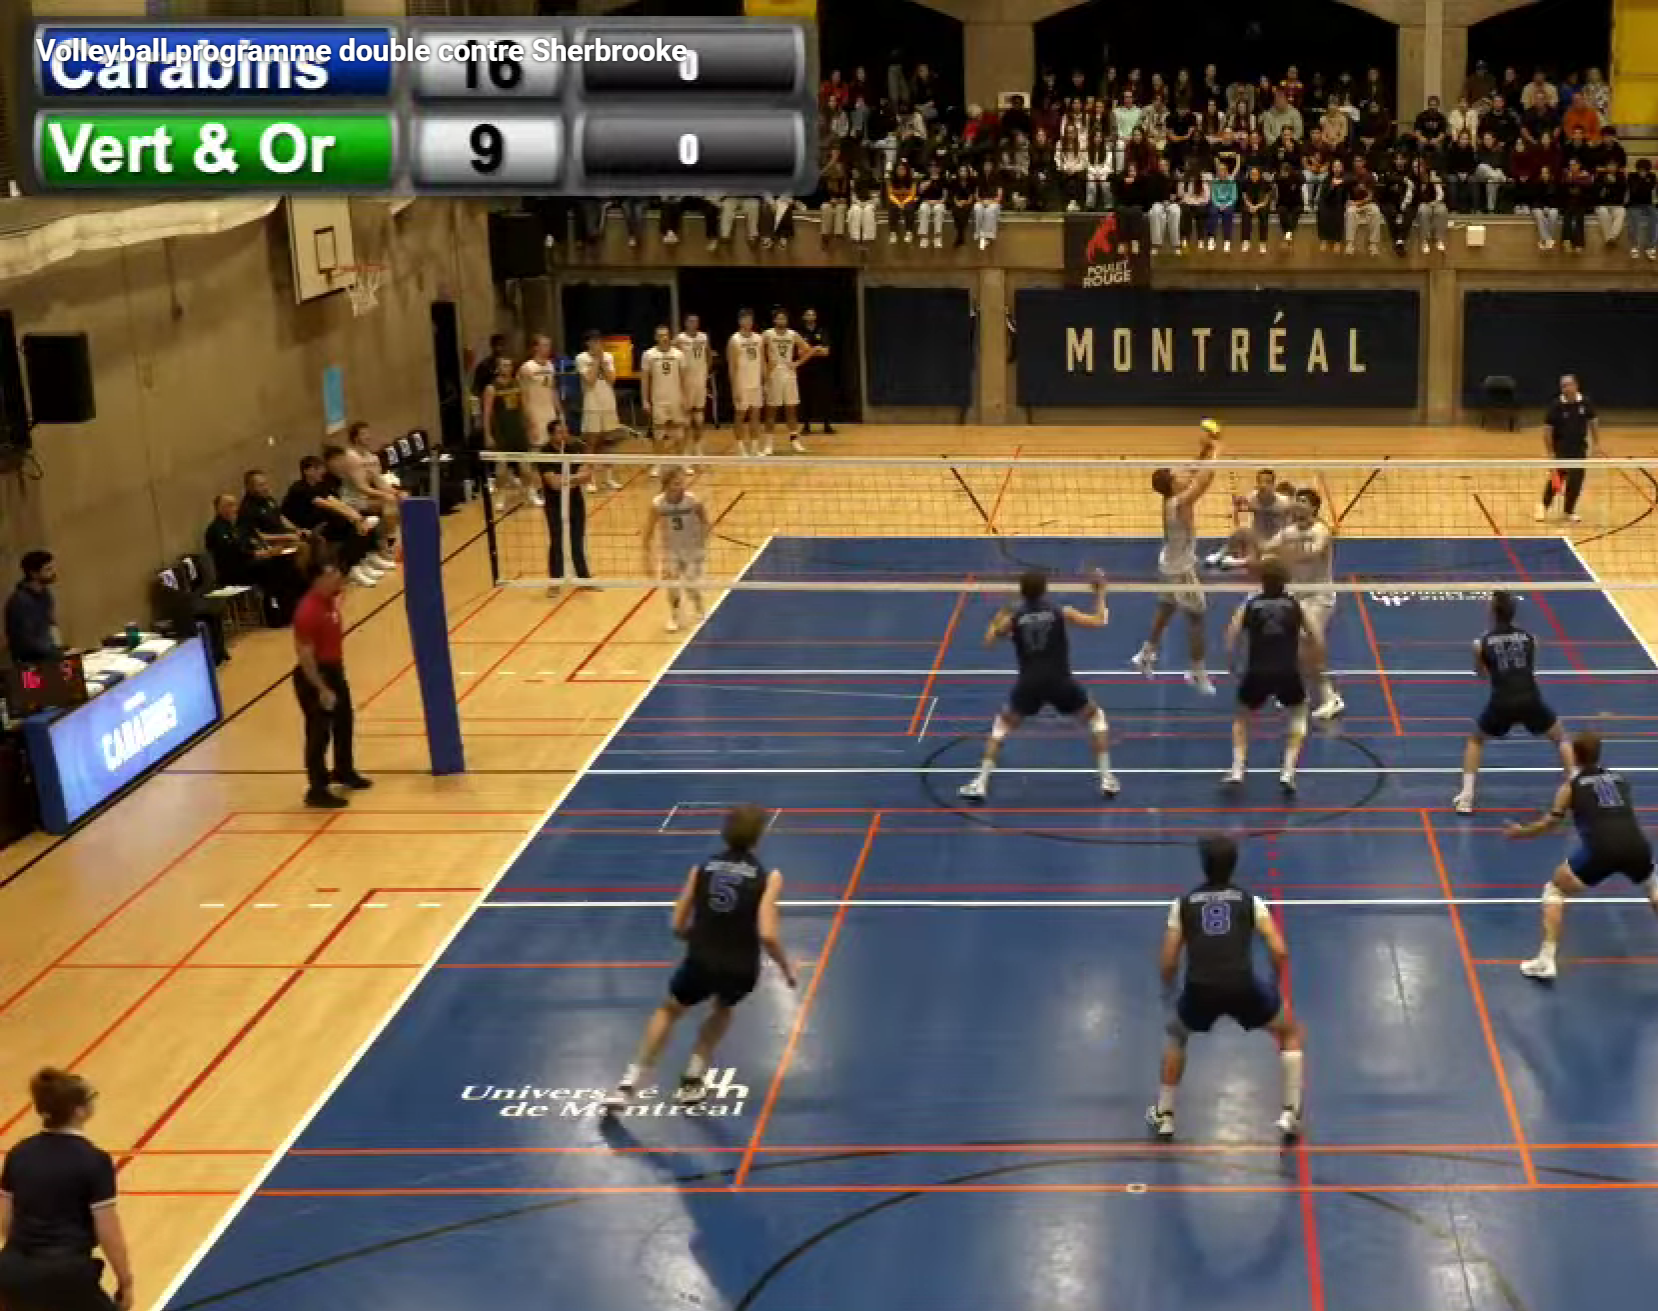Ball: (1196, 412, 1226, 441)
